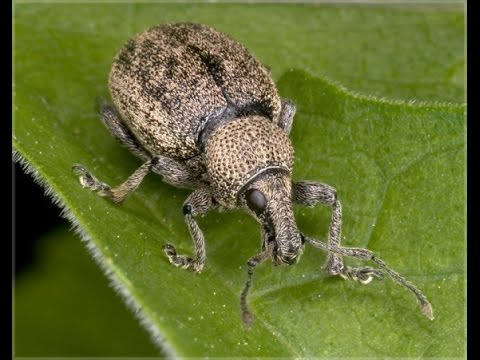dolgonosik: (81, 20, 438, 327)
